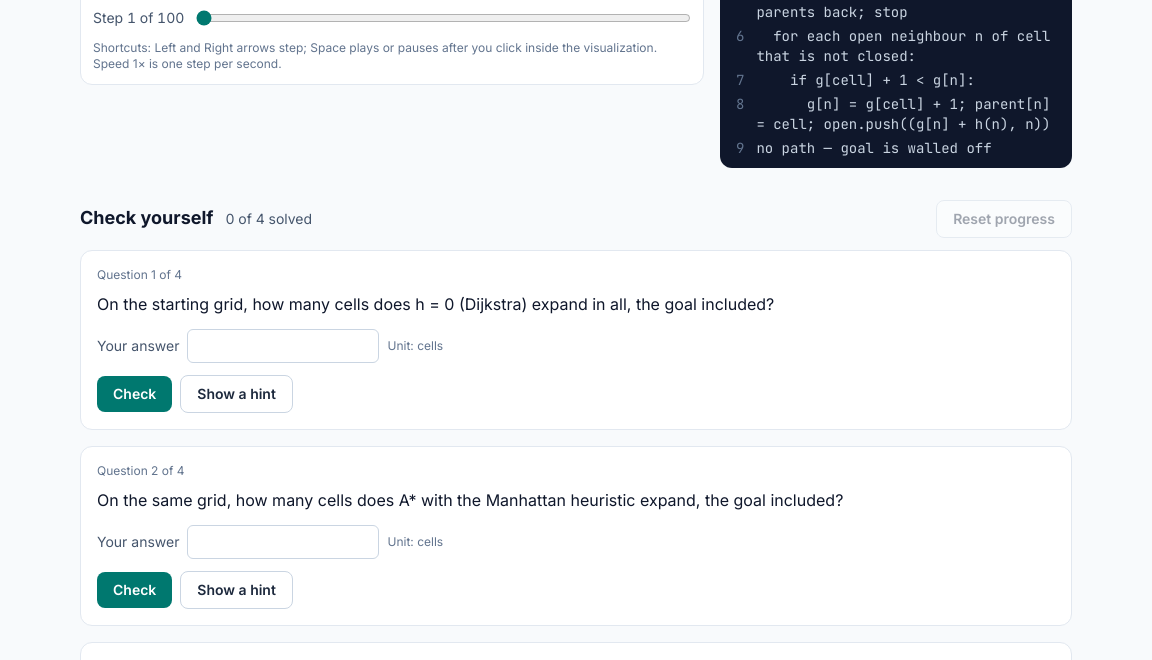
A* lesson › checks practice answers with a hint
(page scrolled)
In the field named "answer": [284, 346] box [188,329,380,363], type "36"
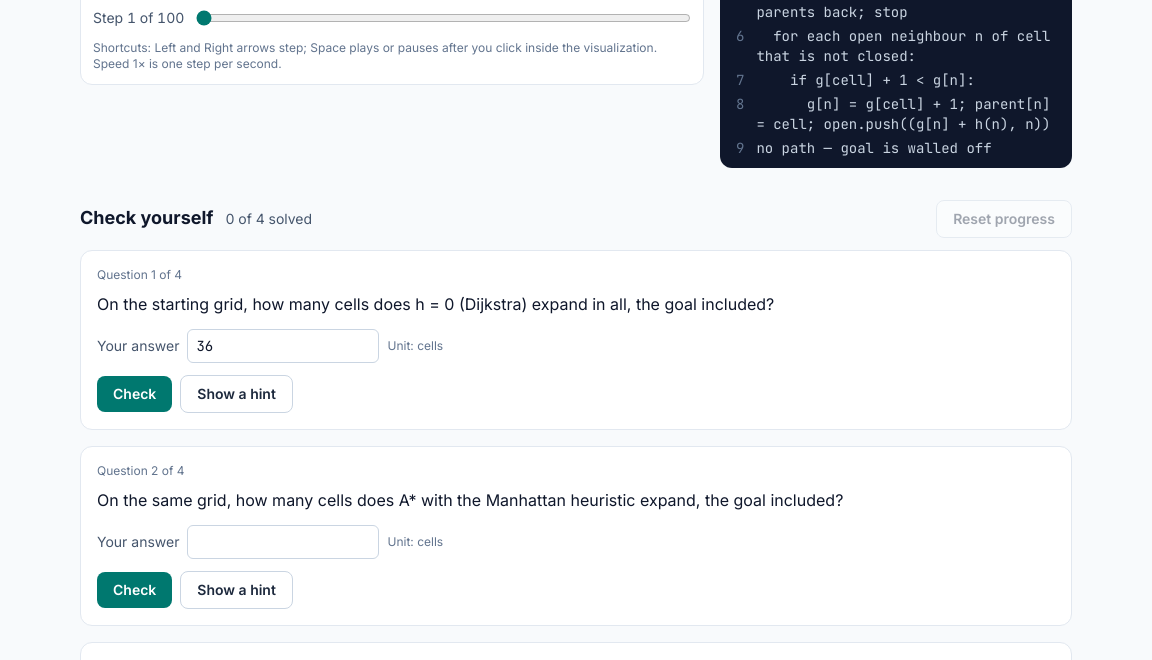
Submit the form "Your answer Unit: cells Check Show a hint" below "Question 1 of 4", box [97,329,443,413]
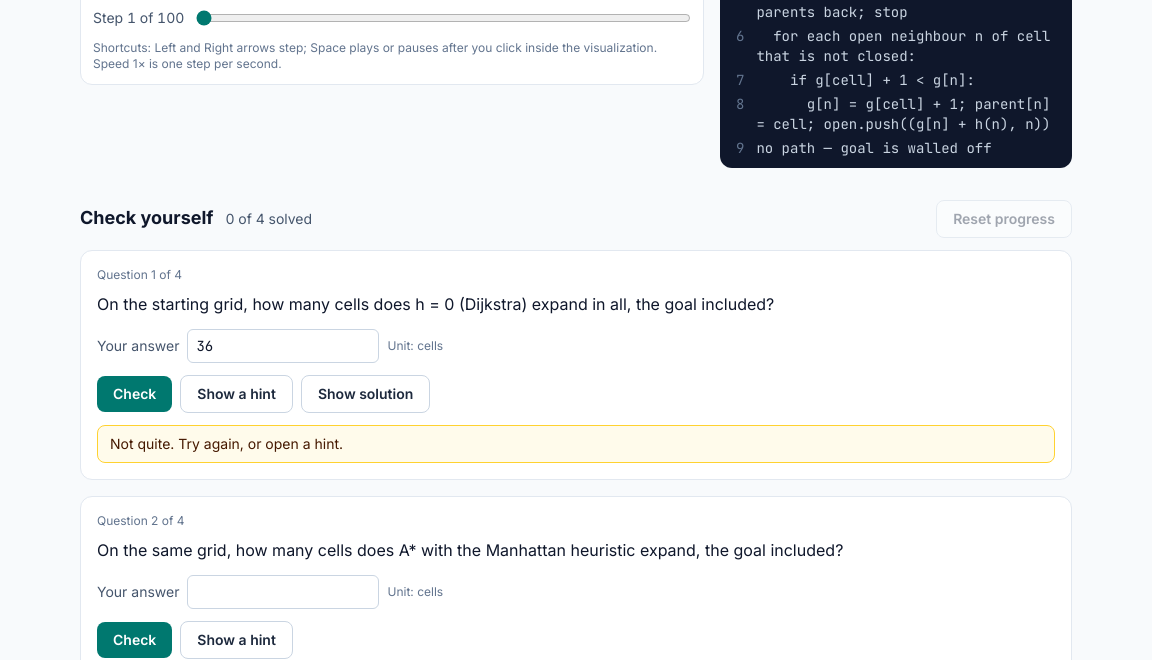
Now the list item that starts with "Question 1 of 4" shows "Not quite", box [110,435,343,452]
Click the button "Show a hint" below "Question 1 of 4": [237, 394] box [180,375,293,413]
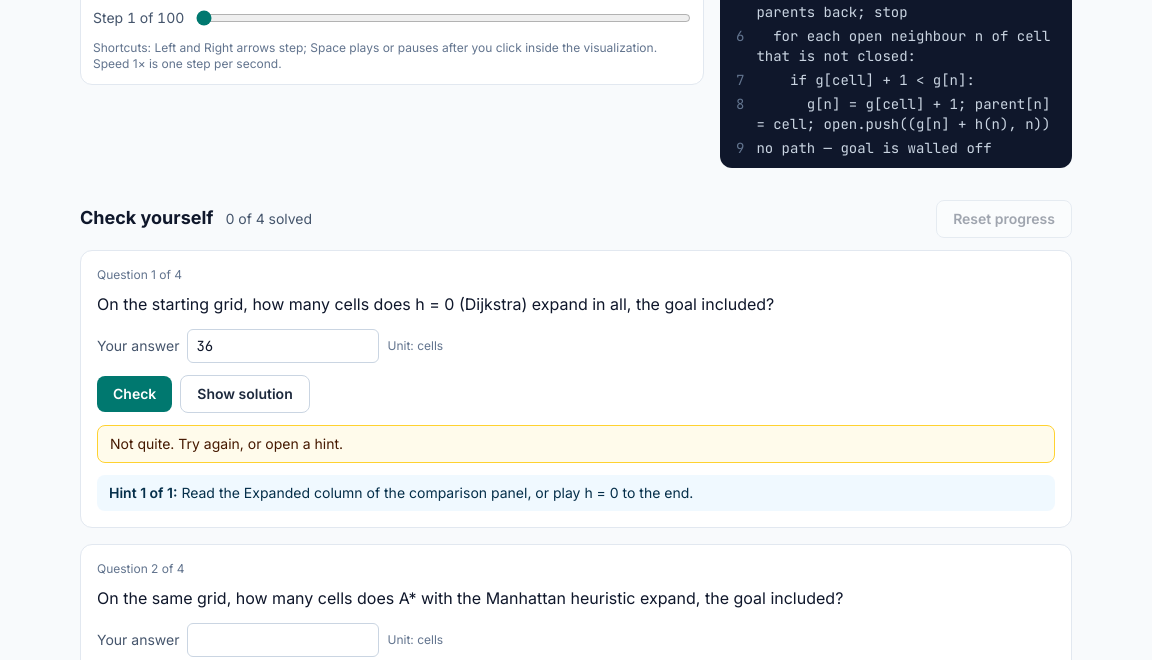
Now the list item that starts with "Question 1 of 4" shows "Read the Expanded column of the comparison panel, or play h = 0 to the end.", box [178,484,693,501]
Replace the text in the field named "answer" with "118": [284, 346] box [188,329,380,363]
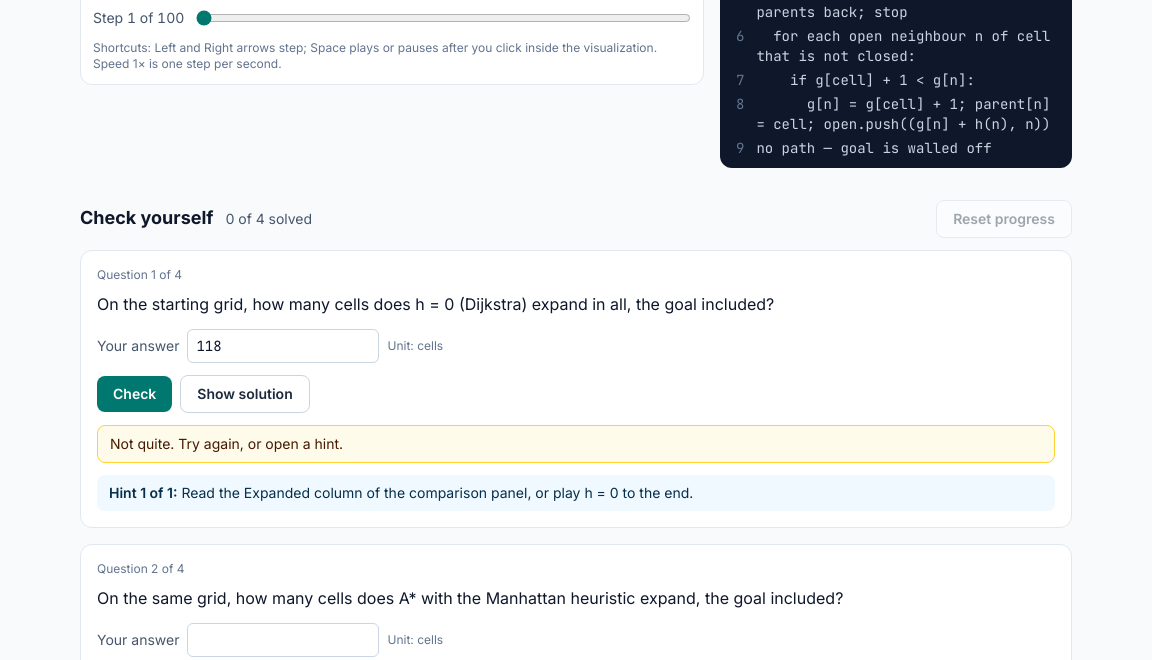
Submit the form "Your answer Unit: cells Check Show solution", box [97,329,443,413]
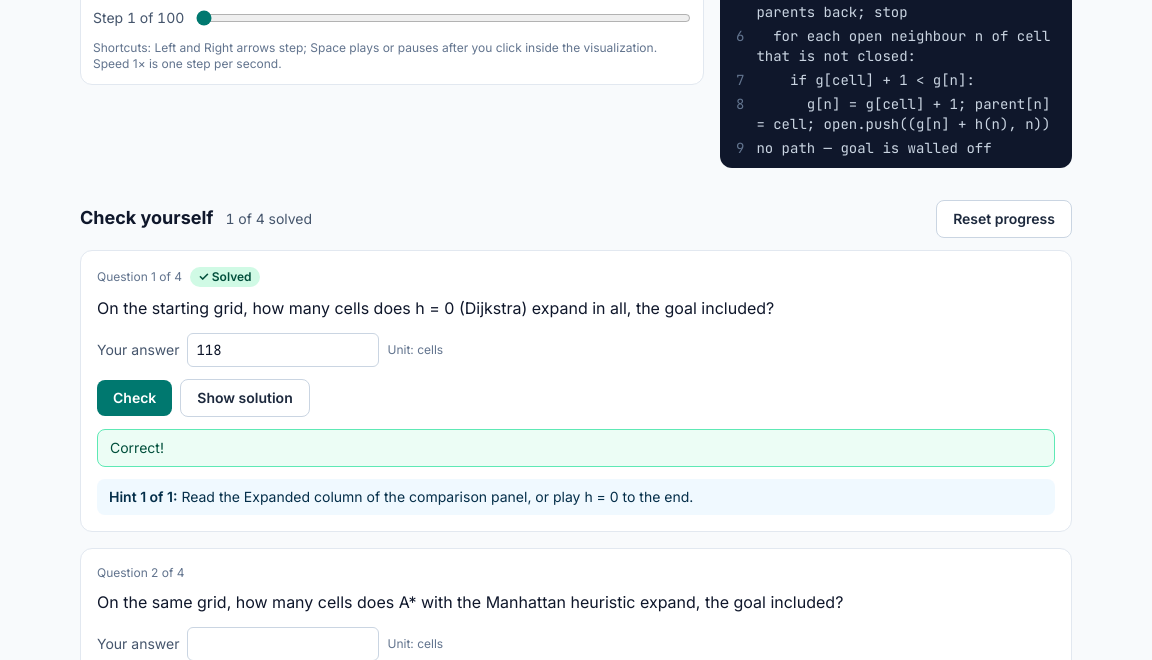
Now the list item that starts with "Question 1 of 4" shows "Correct!", box [110,439,164,456]
